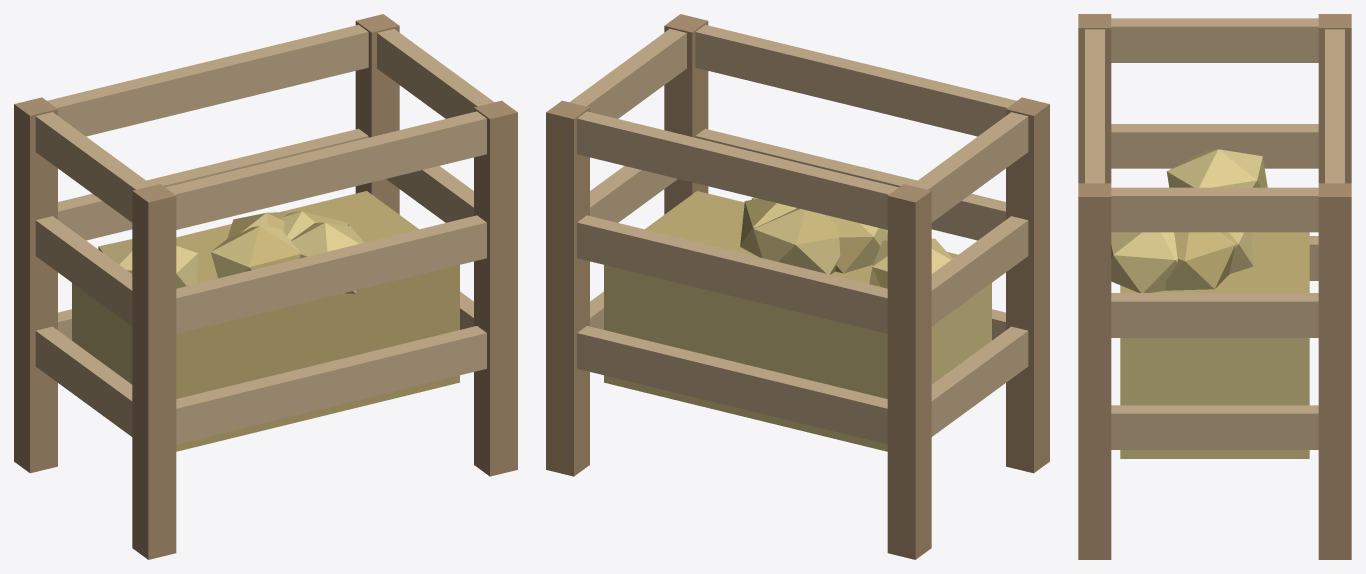
The model's file is hay_feeder.glb.
3 renders of one model, left to right at view 1: azimuth 30°, elevation 25°; view 2: azimuth 150°, elevation 25°; view 3: azimuth 270°, elevation 25°, orthographic.
Visible parts, largest first — view 1: hay_feeder; view 2: hay_feeder; view 3: hay_feeder.
Part boxes in pixels (x1=…): hay_feeder: x1=14, y1=14, x2=517, y2=559; hay_feeder: x1=546, y1=14, x2=1049, y2=559; hay_feeder: x1=1078, y1=14, x2=1351, y2=559.
Bounding box in the file's own units: 1.19 × 1.1 × 0.75.
